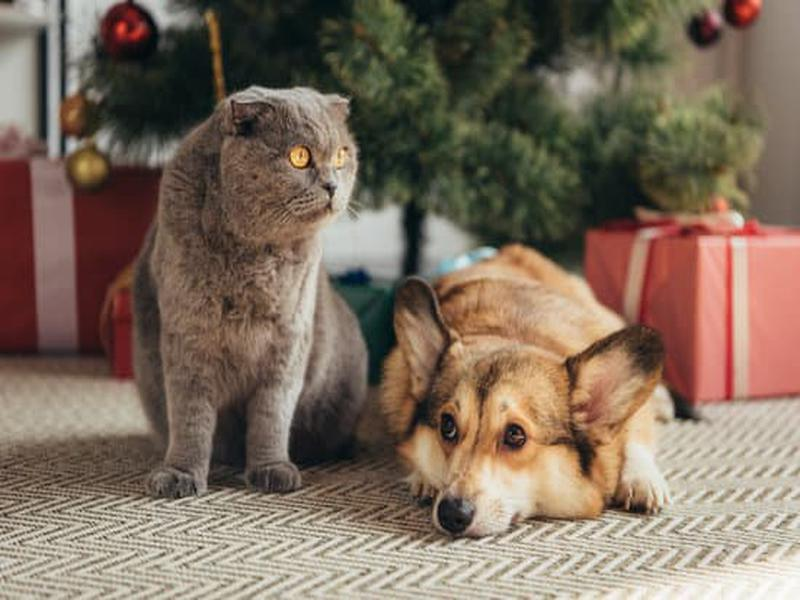corgi: (392, 276, 666, 540)
